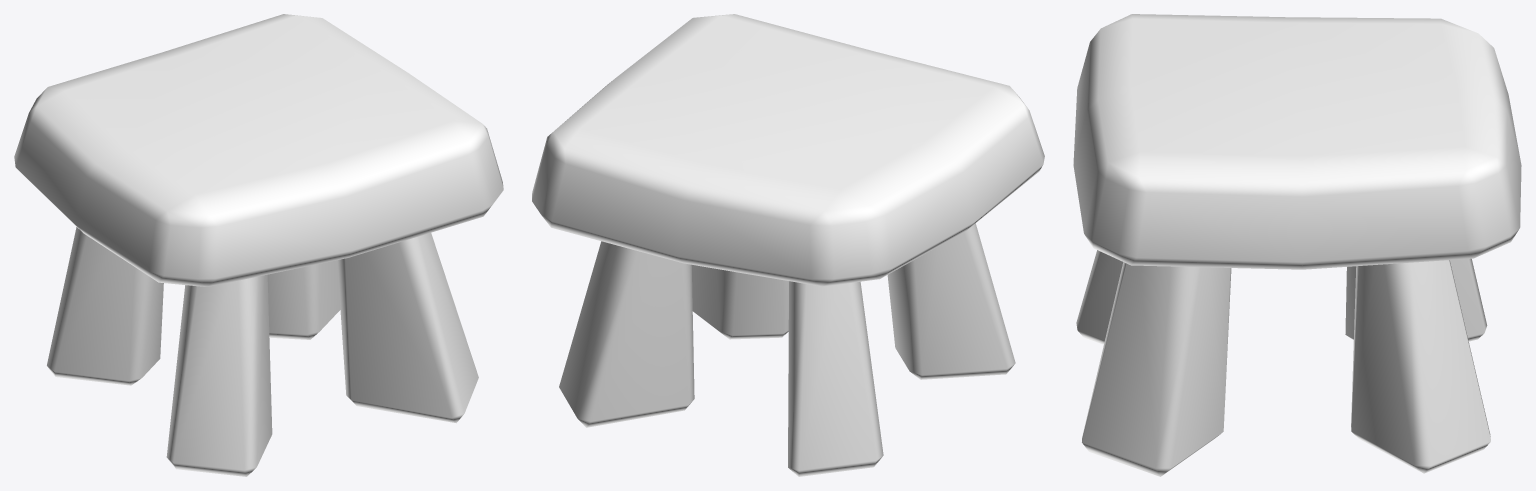
The model's file is P_StoneStool.glb.
3 views of the same model, side by side, from view 1: azimuth 30°, elevation 25°; view 2: azimuth 150°, elevation 25°; view 3: azimuth 270°, elevation 25° (orthographic). The views are drawn at different scales.
Visible parts, largest first — view 1: P_StoneStool; view 2: P_StoneStool; view 3: P_StoneStool.
Part boxes in pixels (left/top/right/bottom): P_StoneStool: left=14, top=14, right=503, bottom=476; P_StoneStool: left=532, top=14, right=1044, bottom=476; P_StoneStool: left=1073, top=14, right=1521, bottom=476.
Bounding box in the file's own units: 0.507 × 0.3767 × 0.4921.
Materials: 1 (1 with a texture image).
